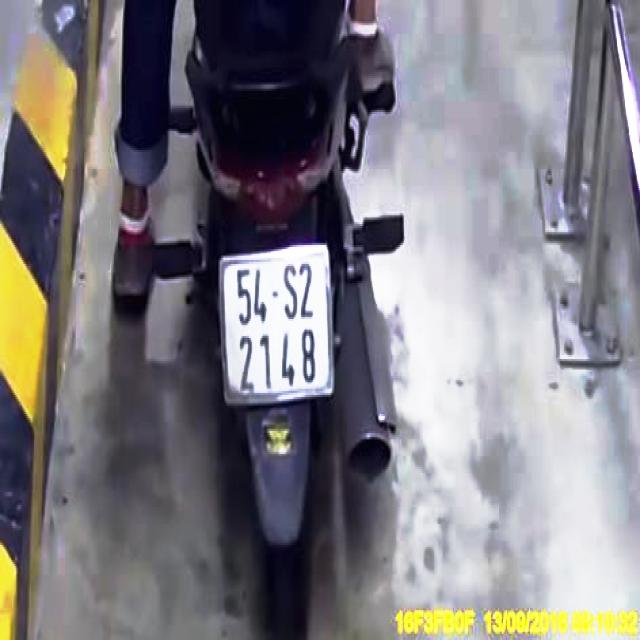license_plate: (223, 251, 332, 398)
